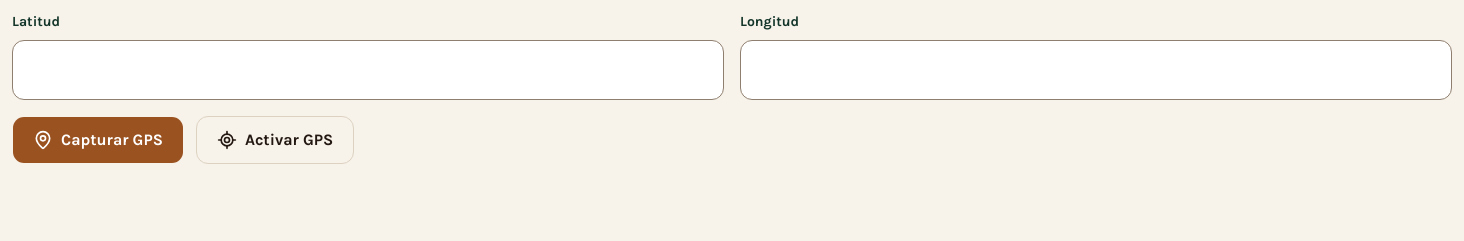
farm location capture › with the GPS warmed up › offers the coordinates instead when the permission is denied
The image size is (1464, 241).
Click the button "Activar GPS" at (275, 140), box [196,116,354,164]
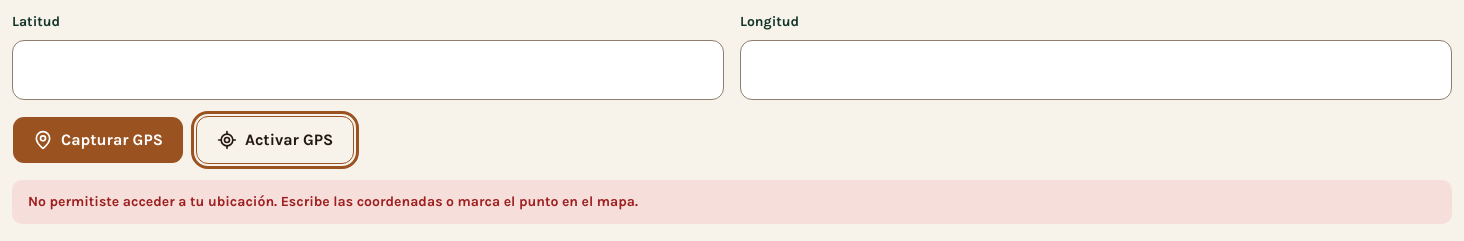
Check: the text "No permitiste acceder a tu ubicación. Escribe las coordenadas" is shown, box [28,193,638,210]
